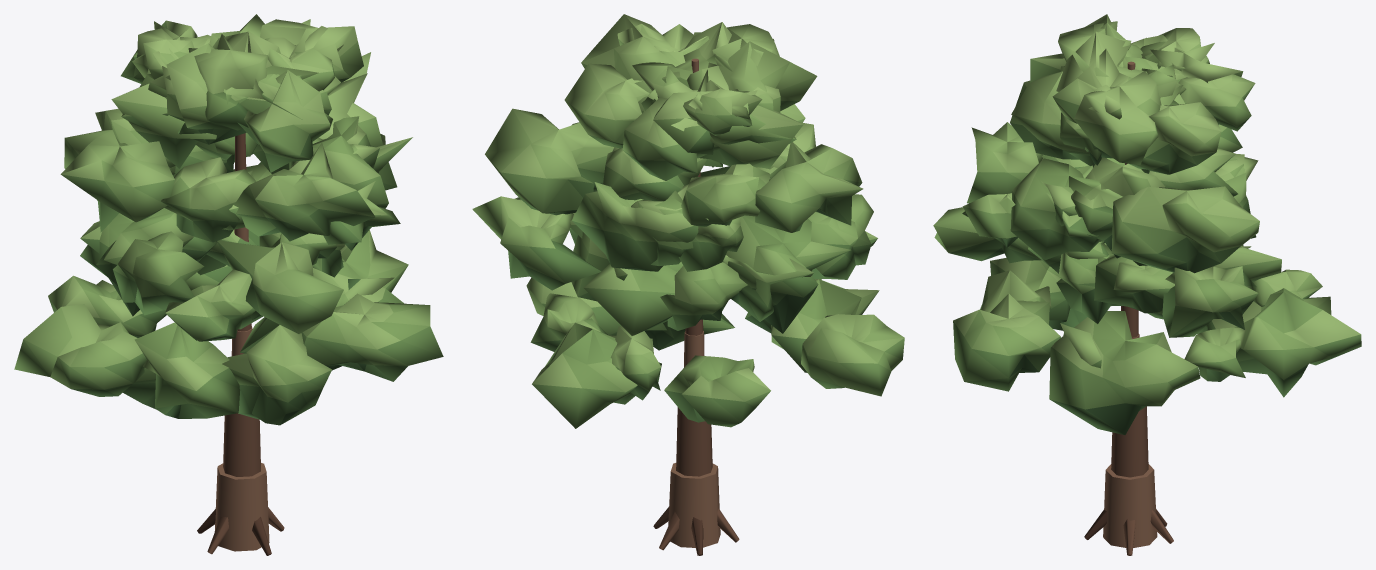
Rendered from evergreen.glb.
The picture shows the model from 3 angles, left to right: view 1: azimuth 30°, elevation 25°; view 2: azimuth 150°, elevation 25°; view 3: azimuth 270°, elevation 25°; orthographic projection. The views are drawn at different scales.
Visible parts, largest first — view 1: evergreen; view 2: evergreen; view 3: evergreen.
Boxes of the visible parts, x1,y1,x2,y2 form: evergreen: (14,14,443,555); evergreen: (472,14,904,555); evergreen: (933,14,1361,555).
Bounding box in the file's own units: 2.18 × 2.75 × 2.13.
